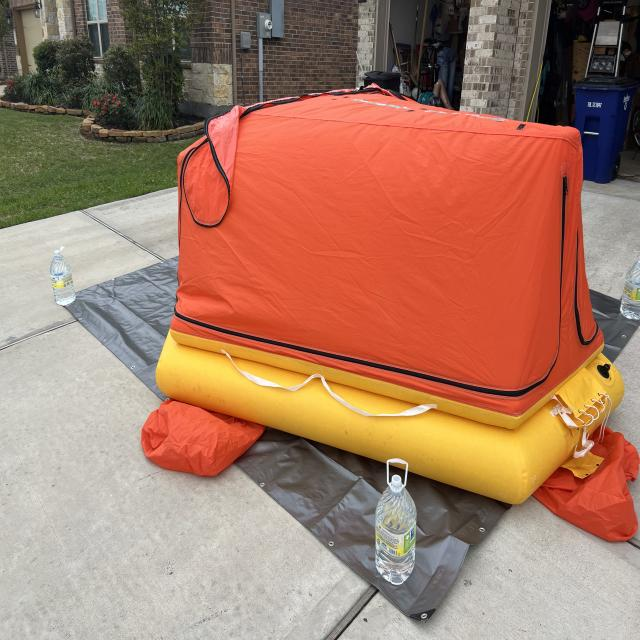Multi-person_life_raft: (140, 81, 640, 547)
